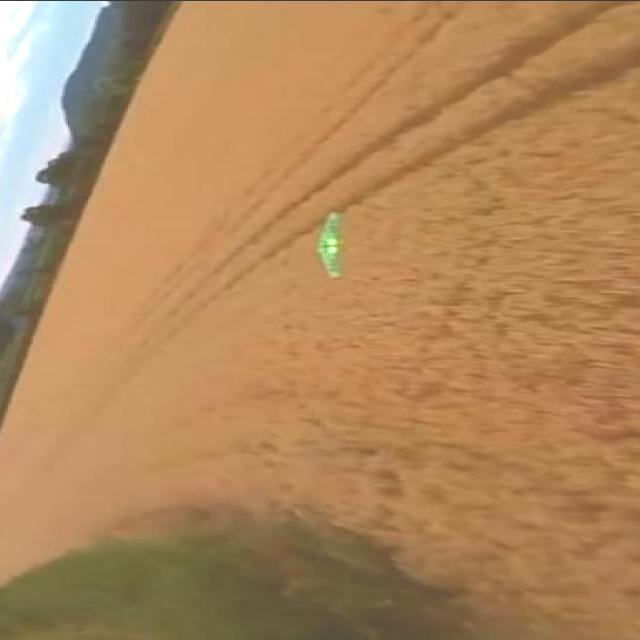plane: (314, 208, 347, 278)
